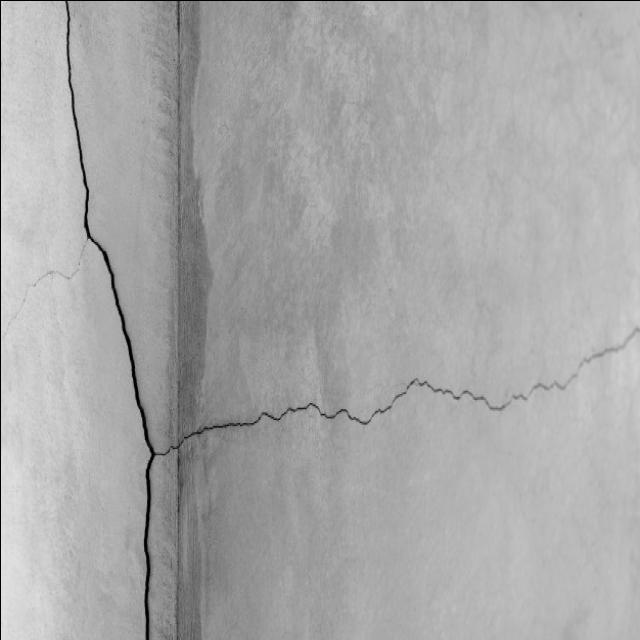wall_crack: (152, 310, 640, 455), (62, 0, 151, 640), (0, 269, 60, 343)
